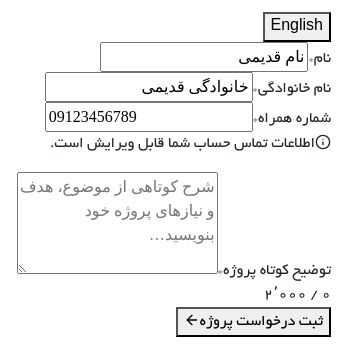
Scenario: late profile refresh fills untouched fields while preserving manual edits and a deliberately cleared phone
The image size is (343, 354).
Check: the field labelled "شماره همراه" holds "09123456789", box [45,102,253,132]
Replace the text in the field labelled "نام" with "نگار" at coordinates (204, 57), box [100,42,308,72]
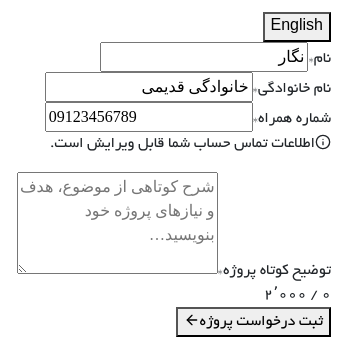
Clear the field labelled "شماره همراه" at coordinates (149, 117), box [45,102,253,132]
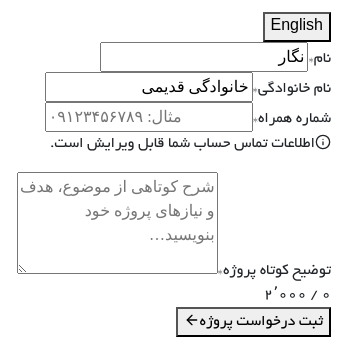
Type "تحلیل داده‌های پروژه پژوهشی" into the text box labelled "توضیح کوتاه پروژه" at coordinates (117, 223), box [17,172,218,274]
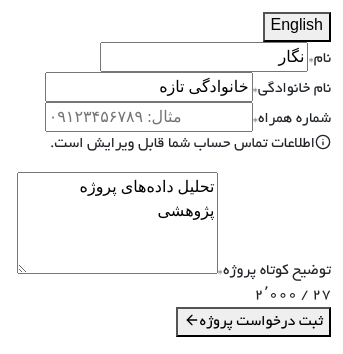
Check: the field labelled "نام خانوادگی" holds "خانوادگی تازه", box [45,72,253,102]
